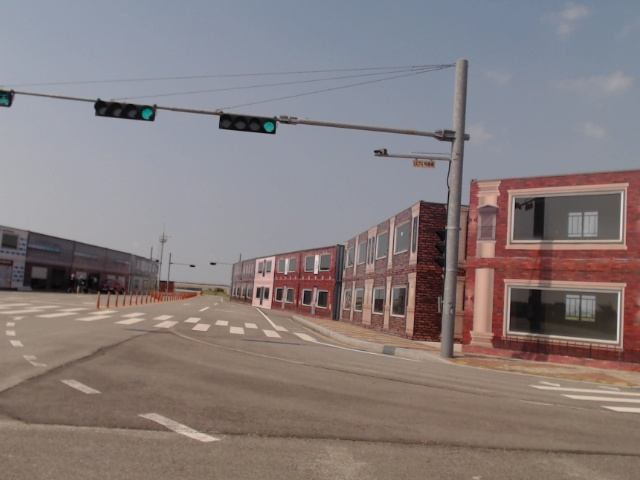straight_green_4: (95, 99, 156, 122), (218, 111, 275, 133)
